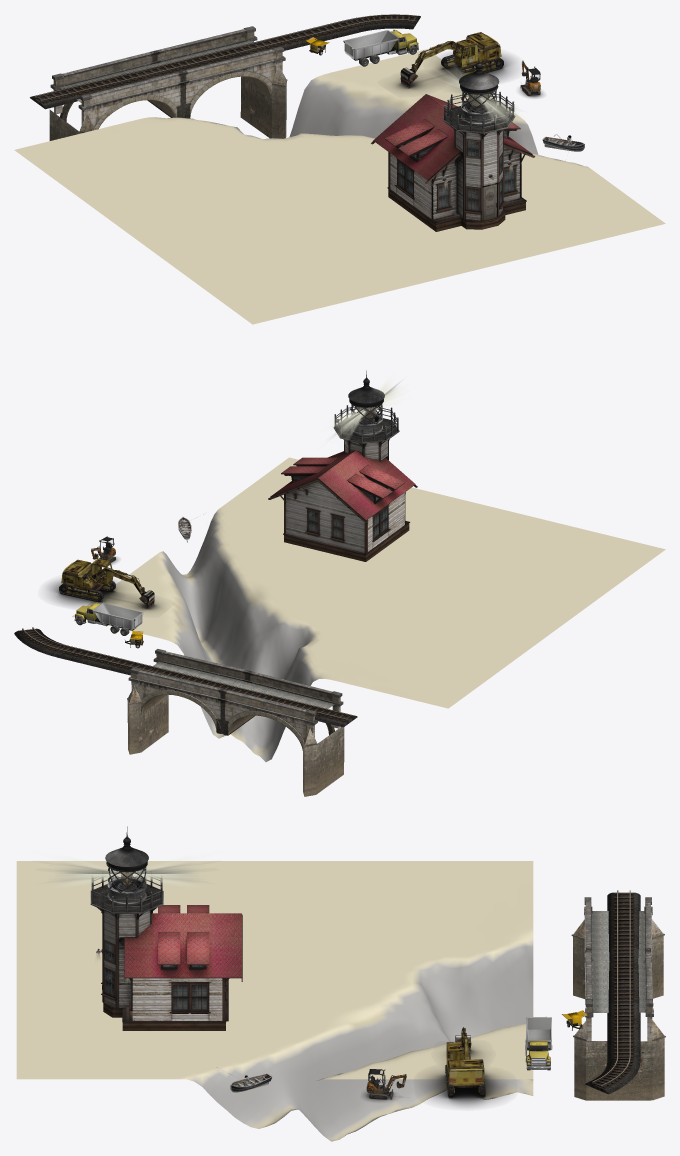
3 views of the same model, one above another, from view 1: azimuth 30°, elevation 25°; view 2: azimuth 150°, elevation 25°; view 3: azimuth 270°, elevation 25° (orthographic). The views are drawn at different scales.
Parts seen in each view (by area): view 1: Terrain 5,3, prim0-mesh_0 (×12), Pont Miroux (×2), TRACKSTRAIGHT16 Rail (×3), Vehicule Chantier Excavateur, vehicule chantier excavateur, Train TRACKCURVE 01 prim, Marin Lighthouse V2, ID1002_0, Lighthouse Door, Vehicule Chantier Bob Cat; view 2: Terrain 5,3, Pont Miroux (×2), prim0-mesh_0 (×7), Vehicule Chantier Excavateur, TRACKSTRAIGHT16 Rail (×2), vehicule chantier excavateur, Train TRACKCURVE 01 prim, Marin Lighthouse V2; view 3: Terrain 5,3, prim0-mesh_0 (×14), Pont Miroux (×2), TRACKSTRAIGHT16 Rail (×3), vehicule chantier excavateur, Vehicule Chantier Excavateur, Train TRACKCURVE 01 prim, Marin Lighthouse V2, Vehicule Chantier Bob Cat, ID1002_0, Truck HF-6000 Flatbed.
Boxes of the visible parts, bbox=[...] form: Terrain 5,3: bbox=[14, 49, 665, 324]; prim0-mesh_0 (×12): bbox=[371, 53, 535, 231]; Pont Miroux (×2): bbox=[49, 26, 287, 140]; TRACKSTRAIGHT16 Rail (×3): bbox=[30, 19, 359, 109]; Vehicule Chantier Excavateur: bbox=[400, 32, 503, 88]; vehicule chantier excavateur: bbox=[393, 53, 515, 90]; Train TRACKCURVE 01 prim: bbox=[346, 14, 420, 32]; Marin Lighthouse V2: bbox=[443, 106, 515, 133]; ID1002_0: bbox=[344, 30, 398, 49]; Lighthouse Door: bbox=[483, 184, 496, 219]; Vehicule Chantier Bob Cat: bbox=[520, 60, 540, 95]; Terrain 5,3: bbox=[72, 457, 665, 761]; Pont Miroux (×2): bbox=[127, 649, 344, 796]; prim0-mesh_0 (×7): bbox=[268, 370, 417, 561]; Vehicule Chantier Excavateur: bbox=[59, 558, 154, 609]; TRACKSTRAIGHT16 Rail (×2): bbox=[57, 645, 357, 727]; vehicule chantier excavateur: bbox=[47, 580, 161, 611]; Train TRACKCURVE 01 prim: bbox=[14, 627, 69, 657]; Marin Lighthouse V2: bbox=[333, 418, 399, 443]; Terrain 5,3: bbox=[16, 861, 533, 1141]; prim0-mesh_0 (×14): bbox=[45, 826, 242, 1030]; Pont Miroux (×2): bbox=[571, 897, 665, 1100]; TRACKSTRAIGHT16 Rail (×3): bbox=[607, 890, 640, 1061]; vehicule chantier excavateur: bbox=[421, 1046, 509, 1106]; Vehicule Chantier Excavateur: bbox=[445, 1027, 485, 1096]; Train TRACKCURVE 01 prim: bbox=[585, 1056, 640, 1094]; Marin Lighthouse V2: bbox=[90, 883, 163, 913]; Vehicule Chantier Bob Cat: bbox=[366, 1069, 406, 1099]; ID1002_0: bbox=[526, 1017, 551, 1040]; Truck HF-6000 Flatbed: bbox=[526, 1041, 550, 1069].
Size of what is drawn, in the model's own units: 73.93 by 40.84 by 80.77.
Materials: 97 (88 with a texture image).
